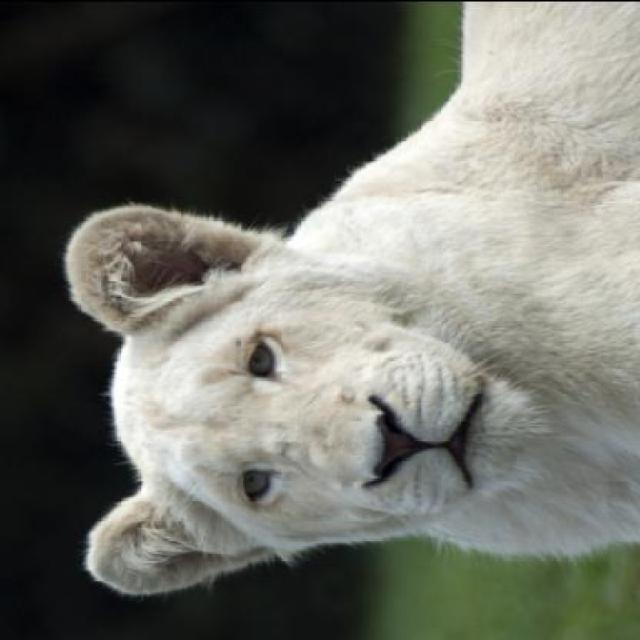Lion: (23, 6, 639, 603)
